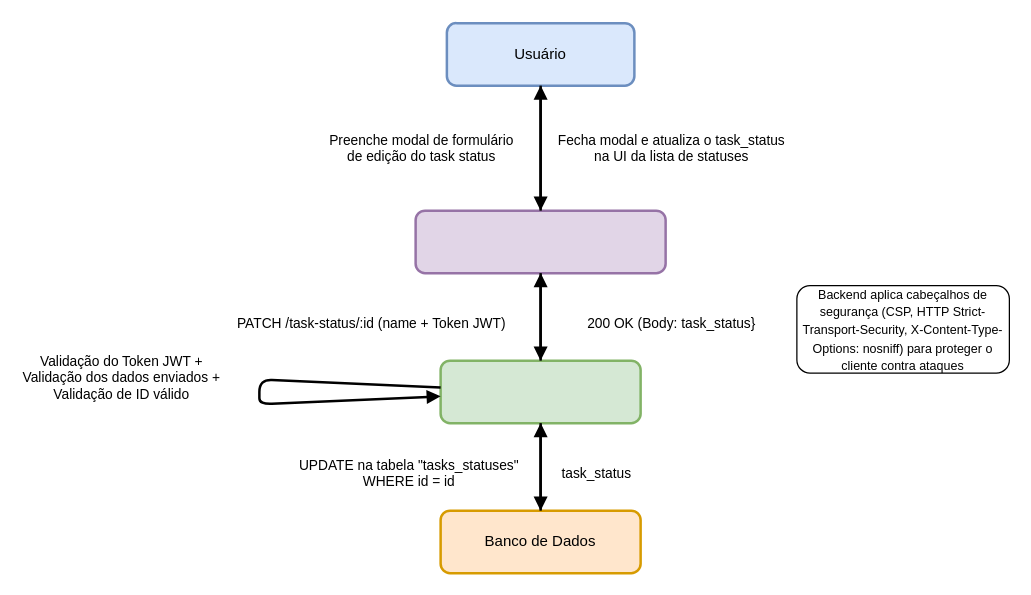
This 1031x595 diagram has some shape labels left out. Each missing label, with the centre of its shape:
Backend: (540,391)
Frontend/Navegador: (540,241)
